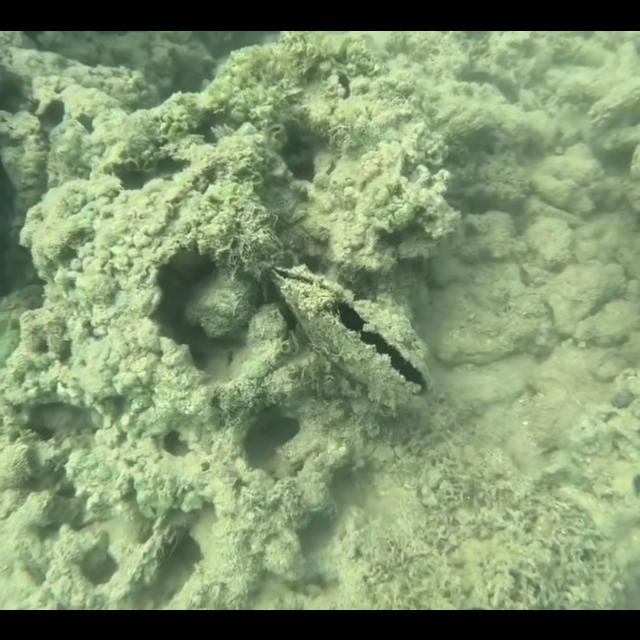Oyster-Open: (272, 262, 434, 406)
